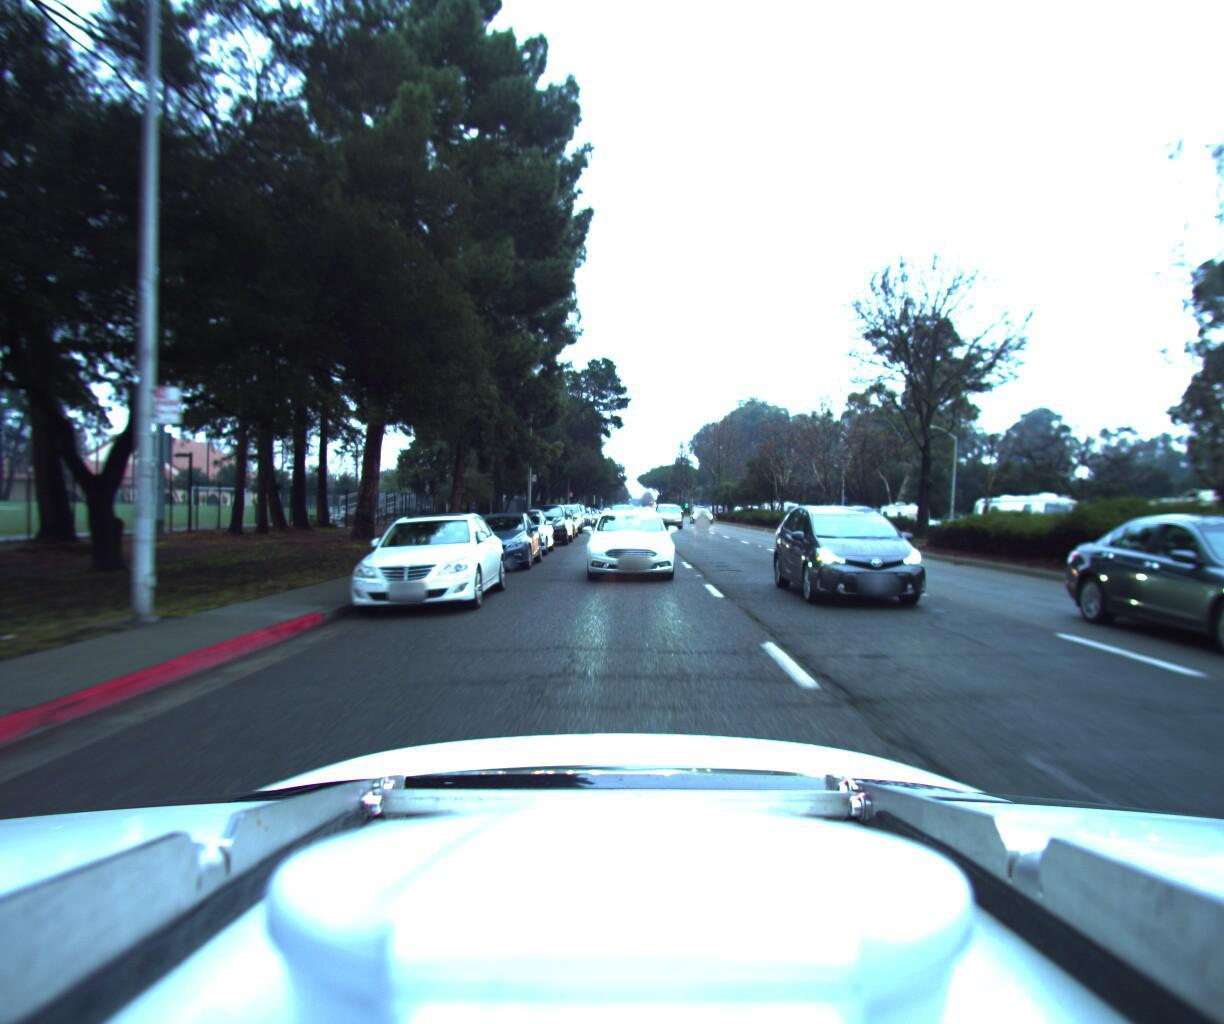car: (1103, 510, 1224, 725), (779, 502, 973, 624), (335, 504, 507, 633), (580, 502, 671, 584), (448, 502, 543, 574), (485, 502, 556, 554), (515, 494, 573, 544), (548, 493, 584, 529), (651, 494, 687, 522), (602, 498, 629, 524), (687, 500, 713, 517)
other_vehicle: (1130, 479, 1224, 563), (964, 482, 1083, 544), (876, 492, 932, 527)
